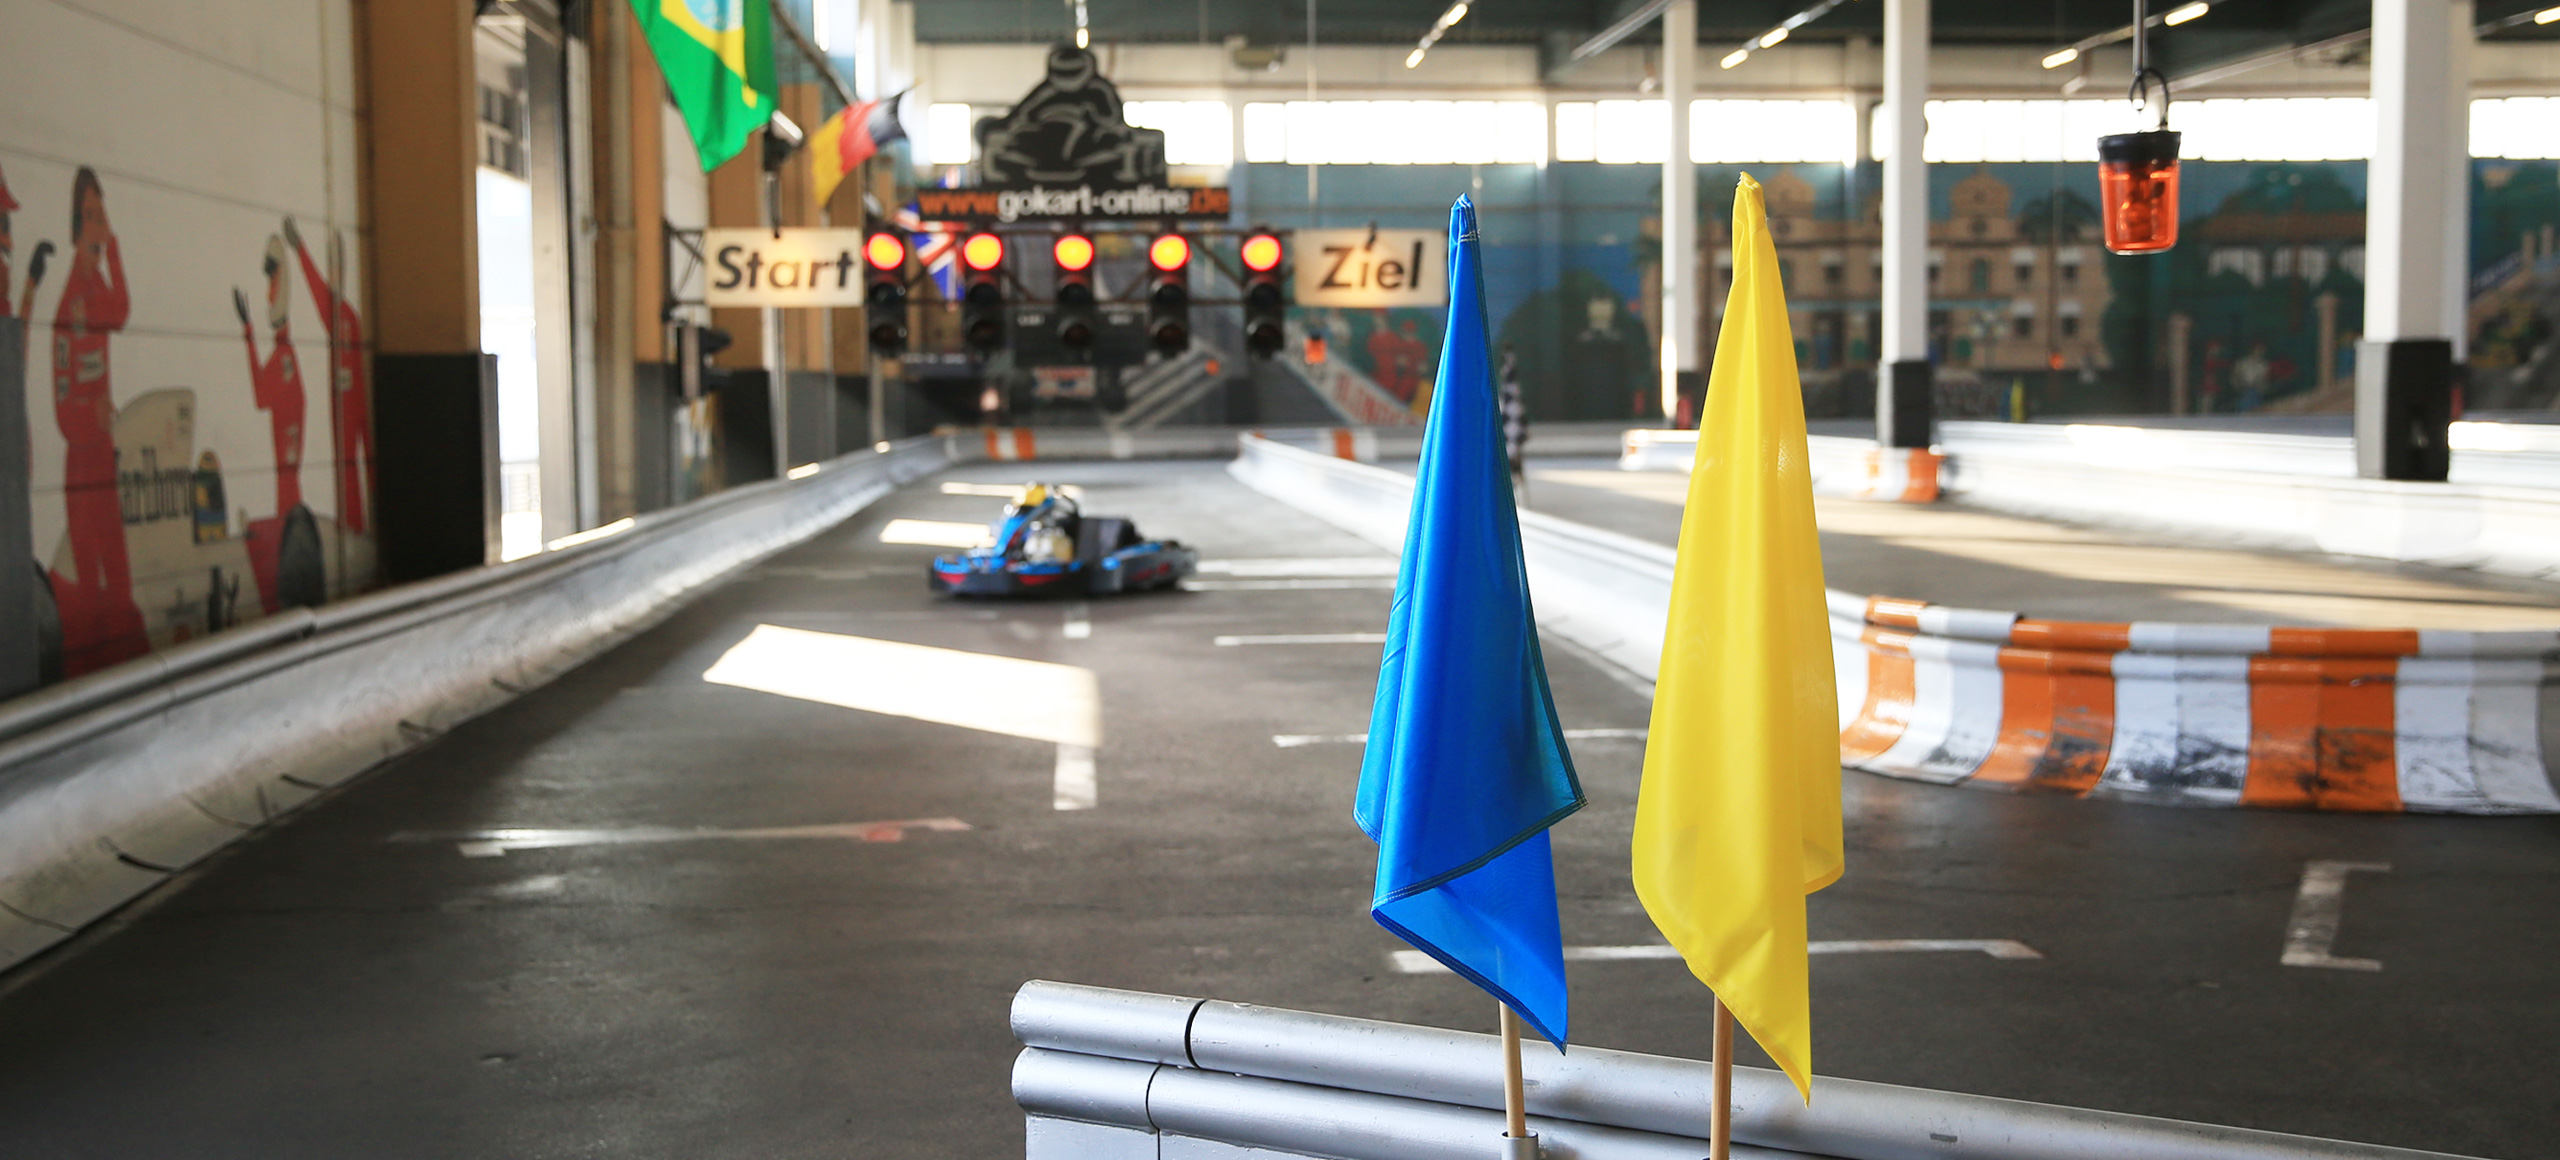Flag: (1355, 198, 1597, 1060), (1633, 163, 1855, 1101), (627, 2, 790, 181), (802, 85, 911, 230)
